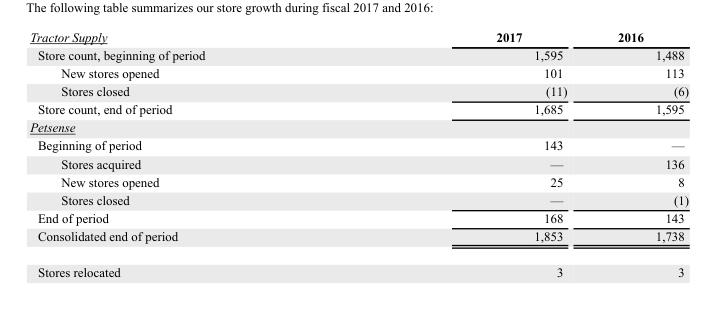table: (29, 29, 688, 278)
table column: (29, 29, 350, 278), (350, 29, 591, 278), (591, 29, 688, 278)
table column header: (29, 29, 688, 45)
table projected row header: (29, 118, 688, 136)
table row: (29, 226, 688, 253), (29, 253, 688, 278), (29, 99, 688, 118), (29, 45, 688, 63), (29, 63, 688, 81), (29, 81, 688, 99), (29, 118, 688, 136), (29, 136, 688, 154), (29, 154, 688, 172), (29, 172, 688, 190), (29, 190, 688, 208), (29, 208, 688, 226), (29, 29, 688, 45)
